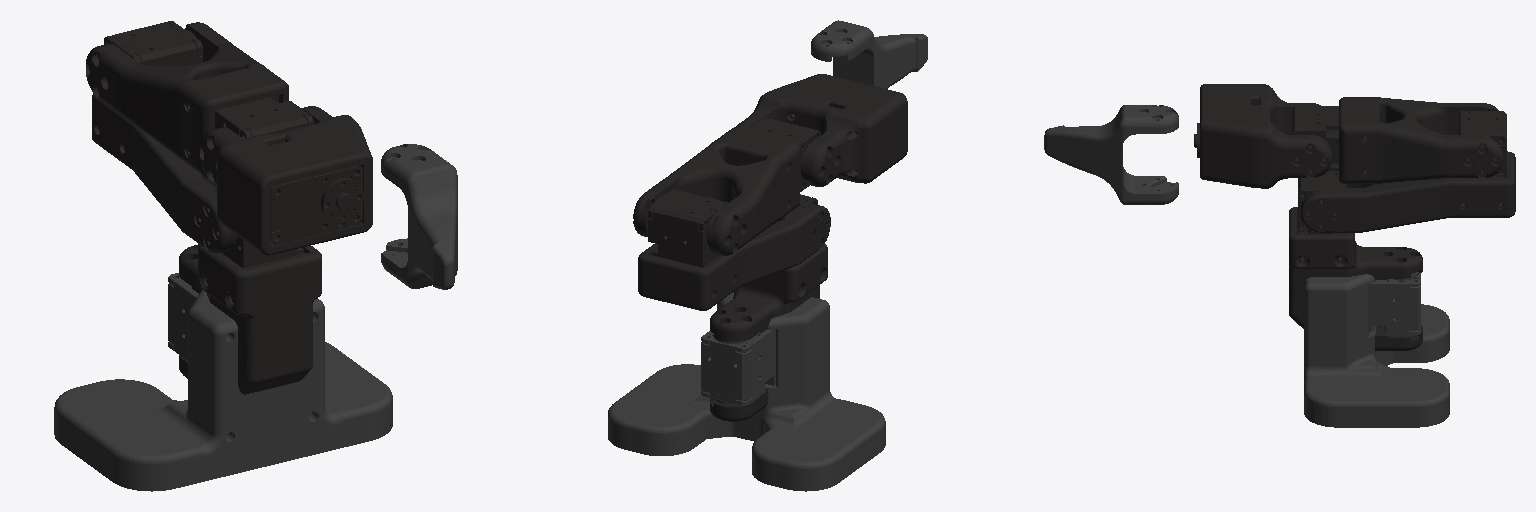
The robot description file, URDF, robot "Issac_sim_6DOF_ARM":
<?xml version="1.0" ?>
<!-- =================================================================================== -->
<!-- |    This document was autogenerated by xacro from Issac_sim_6DOF_ARM.urdf.xacro  | -->
<!-- |    EDITING THIS FILE BY HAND IS NOT RECOMMENDED                                 | -->
<!-- =================================================================================== -->
<robot name="Issac_sim_6DOF_ARM">
  <!-- Materials (shared across all assemblies) -->
  <material name="PLA_base_link_67_43g">
    <color rgba="0.286 0.286 0.286 1.0"/>
  </material>
  <material name="XL430_ABS_57_2g">
    <color rgba="0.200 0.188 0.188 1.0"/>
  </material>
  <material name="PLA_part_13_81g">
    <color rgba="0.286 0.286 0.286 1.0"/>
  </material>
  <!-- Links -->
  <link name="J1">
    <inertial>
      <origin rpy="0 0 0" xyz="0.043657 0.016326 0.000332"/>
      <mass value="0.090380"/>
      <inertia ixx="7.970782e-05" ixy="-1.049455e-05" ixz="-4.229546e-08" iyy="2.416686e-05" iyz="-5.436252e-07" izz="8.547417e-05"/>
    </inertial>
    <visual>
      <origin rpy="0 0 0" xyz="0.046500 0.045100 0.000000"/>
      <geometry>
        <mesh filename="package://lerobot_ver2/meshes/XL_430/J1.dae" scale="1 1 1"/>
      </geometry>
      <material name="XL430_ABS_57_2g"/>
    </visual>
    <collision>
      <origin rpy="0 0 0" xyz="0.046500 0.045100 0.000000"/>
      <geometry>
        <mesh filename="package://lerobot_ver2/meshes/XL_430/J1_collision.stl" scale="0.01 0.01 0.01"/>
      </geometry>
    </collision>
  </link>
  <link name="J2">
    <inertial>
      <origin rpy="0 0 0" xyz="-0.079222 0.016318 -0.021770"/>
      <mass value="0.088830"/>
      <inertia ixx="3.565897e-05" ixy="1.849243e-05" ixz="4.307046e-07" iyy="8.199029e-05" iyz="-2.806739e-07" izz="8.747432e-05"/>
    </inertial>
    <visual>
      <origin rpy="0 0 0" xyz="-0.093581 0.035250 -0.022100"/>
      <geometry>
        <mesh filename="package://lerobot_ver2/meshes/XL_430/J2.dae" scale="1 1 1"/>
      </geometry>
      <material name="XL430_ABS_57_2g"/>
    </visual>
    <collision>
      <origin rpy="0 0 0" xyz="-0.093581 0.035250 -0.022100"/>
      <geometry>
        <mesh filename="package://lerobot_ver2/meshes/XL_430/J2_collision.stl" scale="0.01 0.01 0.01"/>
      </geometry>
    </collision>
  </link>
  <link name="J3">
    <inertial>
      <origin rpy="0 0 0" xyz="-0.000021 0.072609 -0.021765"/>
      <mass value="0.087650"/>
      <inertia ixx="8.170187e-05" ixy="9.133918e-08" ixz="8.995191e-09" iyy="2.219431e-05" iyz="-5.276180e-07" izz="7.297765e-05"/>
    </inertial>
    <visual>
      <origin rpy="0 0 0" xyz="-0.000045 0.099984 -0.022100"/>
      <geometry>
        <mesh filename="package://lerobot_ver2/meshes/XL_430/J3.dae" scale="1 1 1"/>
      </geometry>
      <material name="XL430_ABS_57_2g"/>
    </visual>
    <collision>
      <origin rpy="0 0 0" xyz="-0.000045 0.099984 -0.022100"/>
      <geometry>
        <mesh filename="package://lerobot_ver2/meshes/XL_430/J3_collision.stl" scale="0.01 0.01 0.01"/>
      </geometry>
    </collision>
  </link>
  <link name="J4">
    <inertial>
      <origin rpy="0 0 0" xyz="-0.000006 0.013195 0.042267"/>
      <mass value="0.088640"/>
      <inertia ixx="4.672764e-05" ixy="4.109290e-09" ixz="-4.822448e-08" iyy="2.784948e-05" iyz="3.473844e-06" izz="3.500453e-05"/>
    </inertial>
    <visual>
      <origin rpy="0 0 0" xyz="0.000000 0.022100 0.047250"/>
      <geometry>
        <mesh filename="package://lerobot_ver2/meshes/XL_430/J4.dae" scale="1 1 1"/>
      </geometry>
      <material name="XL430_ABS_57_2g"/>
    </visual>
    <collision>
      <origin rpy="0 0 0" xyz="0.000000 0.022100 0.047250"/>
      <geometry>
        <mesh filename="package://lerobot_ver2/meshes/XL_430/J4_collision.stl" scale="0.01 0.01 0.01"/>
      </geometry>
    </collision>
  </link>
  <link name="J5">
    <inertial>
      <origin rpy="0 0 0" xyz="-0.020667 0.001686 -0.006849"/>
      <mass value="0.086170"/>
      <inertia ixx="7.738749e-05" ixy="-3.220679e-06" ixz="2.806365e-06" iyy="6.984756e-05" iyz="-1.707951e-06" izz="3.684768e-05"/>
    </inertial>
    <visual>
      <origin rpy="0 0 0" xyz="-0.020250 0.019500 -0.000000"/>
      <geometry>
        <mesh filename="package://lerobot_ver2/meshes/XL_430/J5.dae" scale="1 1 1"/>
      </geometry>
      <material name="XL430_ABS_57_2g"/>
    </visual>
    <collision>
      <origin rpy="0 0 0" xyz="-0.020250 0.019500 -0.000000"/>
      <geometry>
        <mesh filename="package://lerobot_ver2/meshes/XL_430/J5_collision.stl" scale="0.01 0.01 0.01"/>
      </geometry>
    </collision>
  </link>
  <!-- Joints (internal to assembly) -->
  <joint name="shoulder" type="revolute">
    <parent link="J1"/>
    <child link="J2"/>
    <origin rpy="-0.000000 0.000000 -0.000000" xyz="0.046500 0.045100 0.022100"/>
    <axis xyz="-0.000000 -0.000000 1.000000"/>
    <limit effort="100.0" lower="-1.570796" upper="1.570796" velocity="1.00"/>
  </joint>
  <joint name="elbow" type="revolute">
    <parent link="J2"/>
    <child link="J3"/>
    <origin rpy="-0.000000 0.000000 -1.570796" xyz="-0.093581 0.035250 0.000000"/>
    <axis xyz="-0.000000 -0.000000 1.000000"/>
    <limit effort="100.0" lower="-1.570796" upper="1.570796" velocity="1.00"/>
  </joint>
  <joint name="wrist_pitch" type="revolute">
    <parent link="J3"/>
    <child link="J4"/>
    <origin rpy="-1.570796 -0.000000 0.000000" xyz="-0.000045 0.099984 -0.000010"/>
    <axis xyz="0.000000 -1.000000 -0.000000"/>
    <limit effort="100.0" lower="-3.141593" upper="0.000000" velocity="1.00"/>
  </joint>
  <joint name="wrist_roll" type="revolute">
    <parent link="J4"/>
    <child link="J5"/>
    <origin rpy="-0.000000 1.570796 0.000000" xyz="0.000000 0.022100 0.069350"/>
    <axis xyz="-1.000000 -0.000000 0.000000"/>
    <limit effort="100.0" lower="-3.054326" upper="3.054326" velocity="1.00"/>
  </joint>
  <!-- ROS 2 control: generated generic system -->
  <ros2_control name="XL_430_system" type="system">
    <hardware>
      <plugin>mock_components/GenericSystem</plugin>
      <param name="cmd_topic">sim/XL_430_system/cmd</param>
      <param name="state_topic">sim/XL_430_system/state</param>
    </hardware>
    <joint name="elbow">
      <command_interface name="position"/>
      <command_interface name="velocity"/>
      <state_interface name="position">
        <param name="initial_value">0.0</param>
      </state_interface>
      <state_interface name="velocity"/>
      <state_interface name="effort"/>
    </joint>
    <joint name="shoulder">
      <command_interface name="position"/>
      <command_interface name="velocity"/>
      <state_interface name="position">
        <param name="initial_value">0.0</param>
      </state_interface>
      <state_interface name="velocity"/>
      <state_interface name="effort"/>
    </joint>
    <joint name="wrist_pitch">
      <command_interface name="position"/>
      <command_interface name="velocity"/>
      <state_interface name="position">
        <param name="initial_value">0.0</param>
      </state_interface>
      <state_interface name="velocity"/>
      <state_interface name="effort"/>
    </joint>
    <joint name="wrist_roll">
      <command_interface name="position"/>
      <command_interface name="velocity"/>
      <state_interface name="position">
        <param name="initial_value">0.0</param>
      </state_interface>
      <state_interface name="velocity"/>
      <state_interface name="effort"/>
    </joint>
  </ros2_control>
  <!-- Links -->
  <link name="base_link">
    <inertial>
      <origin rpy="0 0 0" xyz="0.093970 -0.012453 0.026886"/>
      <mass value="0.124630"/>
      <inertia ixx="1.100219e-04" ixy="-1.277713e-08" ixz="-1.416650e-09" iyy="1.435595e-04" iyz="-1.458301e-06" izz="1.335628e-04"/>
    </inertial>
    <visual>
      <origin rpy="0 0 0" xyz="0.000000 0.000000 0.000000"/>
      <geometry>
        <mesh filename="package://lerobot_ver2/meshes/Issac_sim_6DOF_ARM/base_link.dae" scale="1 1 1"/>
      </geometry>
      <material name="PLA_base_link_67_43g"/>
    </visual>
    <collision>
      <origin rpy="0 0 0" xyz="0.000000 0.000000 0.000000"/>
      <geometry>
        <mesh filename="package://lerobot_ver2/meshes/Issac_sim_6DOF_ARM/base_link_collision.stl" scale="0.01 0.01 0.01"/>
      </geometry>
    </collision>
  </link>
  <link name="gripper">
    <inertial>
      <origin rpy="0 0 0" xyz="0.024154 0.003437 -0.022247"/>
      <mass value="0.013810"/>
      <inertia ixx="4.486468e-06" ixy="-1.025877e-06" ixz="-2.593753e-10" iyy="7.790068e-06" iyz="8.090210e-13" izz="4.934932e-06"/>
    </inertial>
    <visual>
      <origin rpy="0 0 0" xyz="-0.000000 -0.000000 -0.041500"/>
      <geometry>
        <mesh filename="package://lerobot_ver2/meshes/Issac_sim_6DOF_ARM/gripper.dae" scale="1 1 1"/>
      </geometry>
      <material name="PLA_part_13_81g"/>
    </visual>
    <collision>
      <origin rpy="0 0 0" xyz="-0.000000 -0.000000 -0.041500"/>
      <geometry>
        <mesh filename="package://lerobot_ver2/meshes/Issac_sim_6DOF_ARM/gripper_collision.stl" scale="0.01 0.01 0.01"/>
      </geometry>
    </collision>
  </link>
  <!-- Mount joints (cross-assembly connections) -->
  <!-- These define how assemblies connect to each other. -->
  <!-- When swapping a dummy assembly with a real part, -->
  <!-- update the include + macro call above, and adjust -->
  <!-- parent/child link names in the mount joint below. -->
  <joint name="base" type="revolute">
    <parent link="base_link"/>
    <child link="J1"/>
    <origin rpy="1.570796 0.000000 1.570796" xyz="0.093965 0.007519 0.063900"/>
    <axis xyz="-0.000000 1.000000 0.000000"/>
    <limit effort="100.0" lower="1.570796" upper="4.712389" velocity="1.00"/>
  </joint>
  <joint name="gripper" type="revolute">
    <parent link="J5"/>
    <child link="gripper"/>
    <origin rpy="0.0 0.0 -3.141593" xyz="-0.020000 0.020000 0.022210"/>
    <axis xyz="0.000000 0.000000 1.000000"/>
    <limit effort="100.0" lower="-1.570796" upper="0.087266" velocity="1.00"/>
  </joint>
  <!-- ROS 2 control: generated generic system -->
  <ros2_control name="Issac_sim_6DOF_ARM_system" type="system">
    <hardware>
      <plugin>mock_components/GenericSystem</plugin>
      <param name="cmd_topic">sim/Issac_sim_6DOF_ARM_system/cmd</param>
      <param name="state_topic">sim/Issac_sim_6DOF_ARM_system/state</param>
    </hardware>
    <joint name="base">
      <command_interface name="position"/>
      <command_interface name="velocity"/>
      <state_interface name="position">
        <param name="initial_value">0.0</param>
      </state_interface>
      <state_interface name="velocity"/>
      <state_interface name="effort"/>
    </joint>
    <joint name="gripper">
      <command_interface name="position"/>
      <command_interface name="velocity"/>
      <state_interface name="position">
        <param name="initial_value">0.0</param>
      </state_interface>
      <state_interface name="velocity"/>
      <state_interface name="effort"/>
    </joint>
  </ros2_control>
</robot>

--- Facts derived from the render (not from the file) ---
Views: 3 orthographic renders of the robot side by side, from view 1: azimuth 30°, elevation 25°; view 2: azimuth 150°, elevation 25°; view 3: azimuth 270°, elevation 25°.
Robot: Issac_sim_6DOF_ARM — 7 links, 6 joints (6 revolute); root link base_link; default pose: joints at zero except 1 at the middle of their limits (base = 3.14).
Links seen in each view (by area): view 1: base_link, J4, J3, J1, J2, gripper; view 2: base_link, J2, J3, J4, J1, gripper; view 3: base_link, J3, J2, J4, J1, gripper.
Link boxes in pixels (box(x1,y1,x2,y2)): base_link: box(54, 273, 392, 491); J4: box(200, 106, 372, 255); J3: box(86, 22, 313, 178); J1: box(179, 187, 321, 394); J2: box(92, 21, 236, 253); gripper: box(381, 144, 457, 289); base_link: box(608, 292, 885, 491); J2: box(638, 189, 830, 310); J3: box(633, 117, 820, 255); J4: box(736, 74, 907, 186); J1: box(710, 194, 827, 421); gripper: box(811, 20, 927, 88); base_link: box(1304, 272, 1449, 427); J3: box(1292, 97, 1503, 183); J2: box(1301, 111, 1515, 232); J4: box(1194, 84, 1331, 188); J1: box(1289, 171, 1422, 350); gripper: box(1044, 105, 1178, 204).
Size in the robot's own frame: 0.1385 by 0.2746 by 0.1806 metres.
6 mesh visuals loaded from 7 distinct referenced files (6 Collada DAE); not drawn: 1 (reference not matched to a file when rendering).
